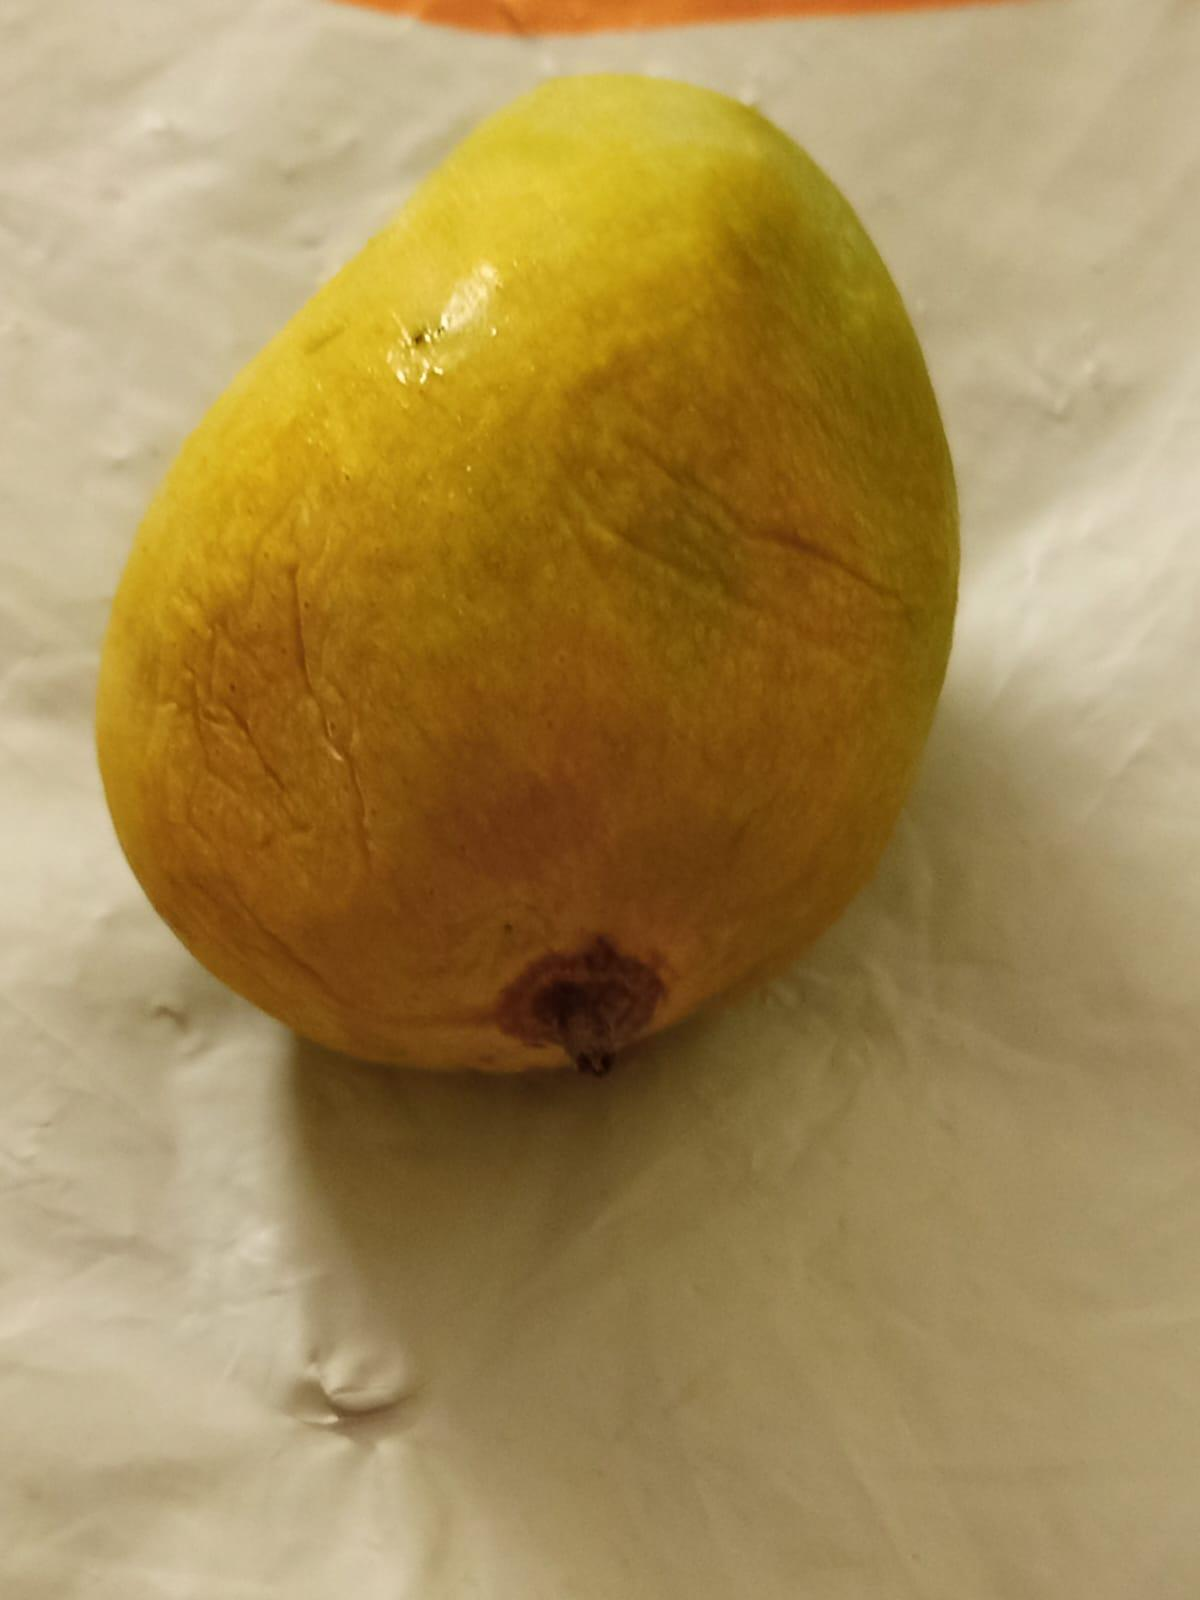mango: (92, 68, 964, 1080)
